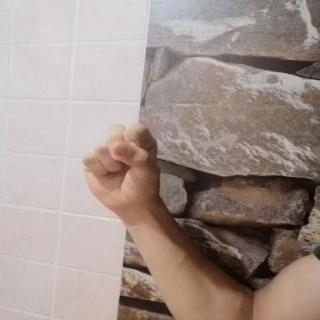QAAF: (70, 118, 173, 217)
